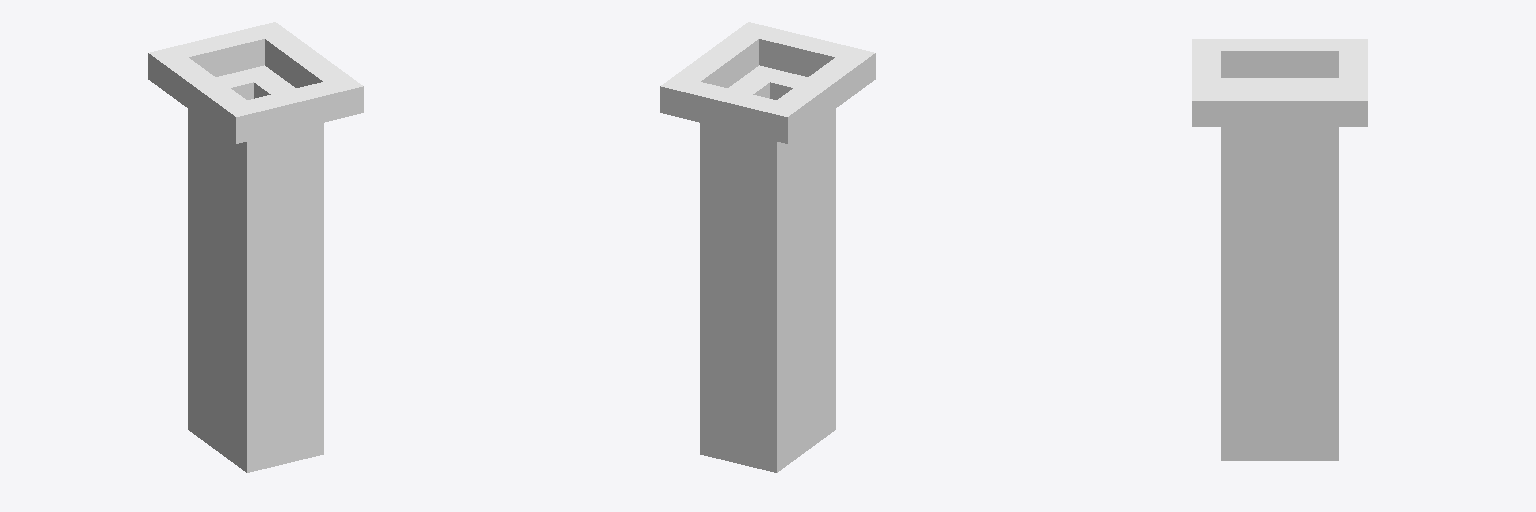
Rendered from Linterna.obj.
3 views of the same model, side by side, from view 1: azimuth 30°, elevation 25°; view 2: azimuth 150°, elevation 25°; view 3: azimuth 270°, elevation 25° (orthographic).
Parts seen in each view (by area): view 1: object 1; view 2: object 1; view 3: object 1.
Boxes of the visible parts, x1,y1,x2,y2 form: object 1: [148, 22, 363, 472]; object 1: [660, 22, 875, 472]; object 1: [1192, 39, 1367, 460].
Size of the model in its own units: 0.5 by 1.4 by 0.6.